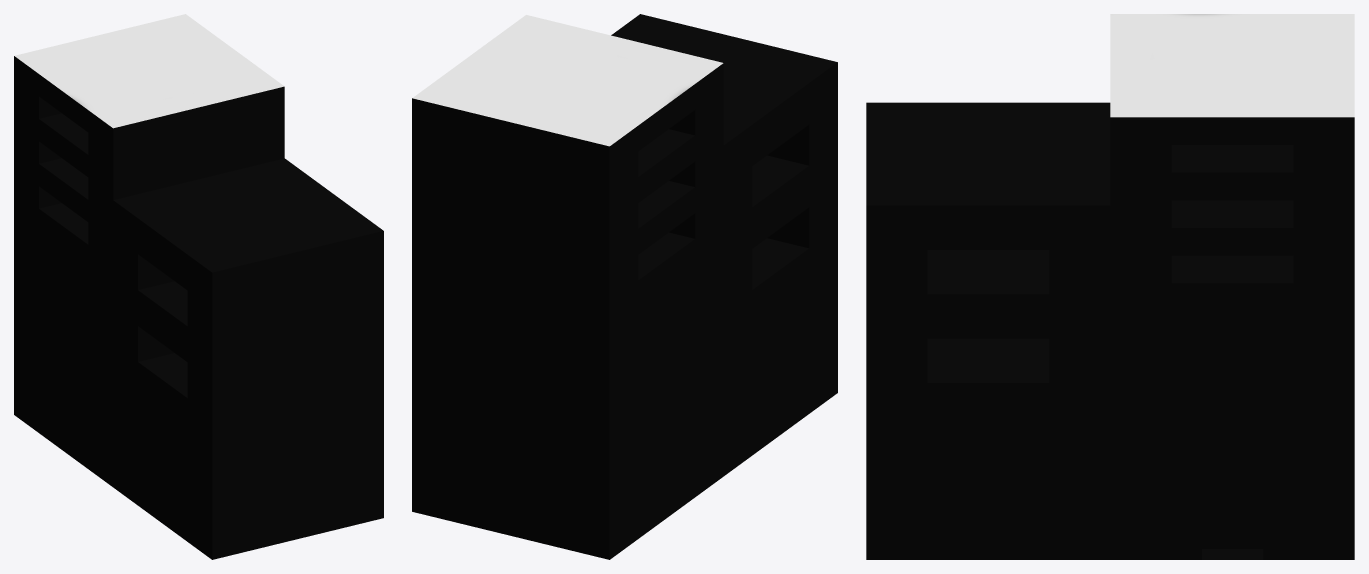
The model's file is stakeholder.glb.
The picture shows the model from 3 angles, left to right: view 1: azimuth 30°, elevation 25°; view 2: azimuth 150°, elevation 25°; view 3: azimuth 270°, elevation 25°; orthographic projection. The views are drawn at different scales.
Parts seen in each view (by area): view 1: Cube.004; view 2: Cube.004; view 3: Cube.004.
Boxes of the visible parts, bbox=[...] form: Cube.004: bbox=[14, 14, 383, 559]; Cube.004: bbox=[412, 14, 837, 559]; Cube.004: bbox=[866, 14, 1354, 559].
Size of the model in its own units: 0.25 by 0.5 by 0.5.
2 materials, 2 textured.
